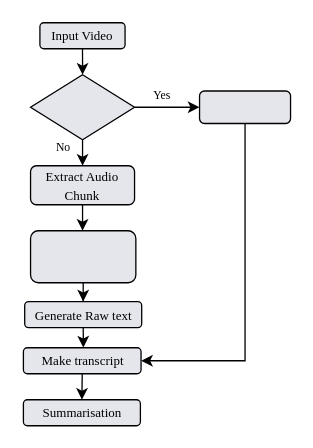
This 313x448 diagram has some shape labels left out. The centre of each missing label's shape, as x and y in pixels:
"Automatic Speech Recognition" belongs at pixel 82 256.
"Get subtitles" belongs at pixel 244 107.
"has subtitles" belongs at pixel 82 106.
